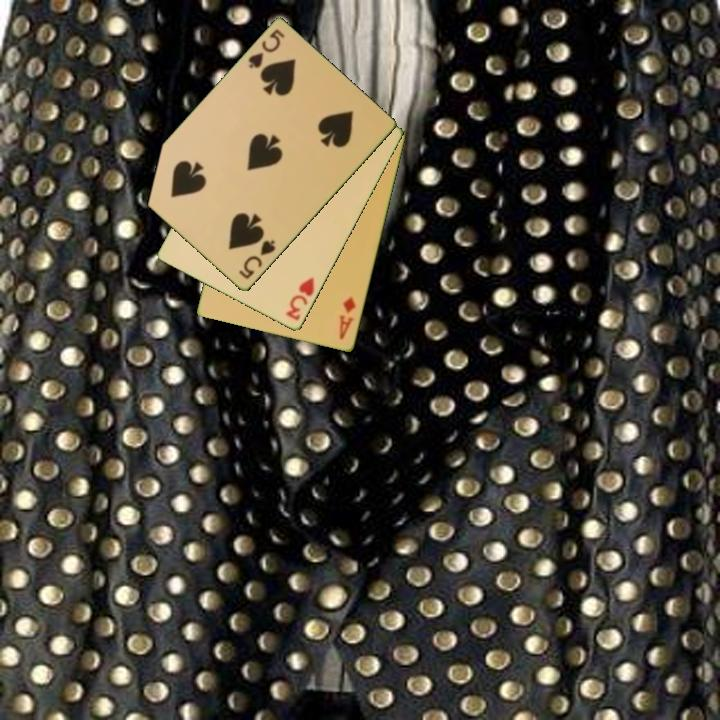3h: (282, 274, 317, 324)
5s: (245, 26, 288, 72), (235, 237, 278, 282)
Ad: (336, 294, 359, 343)
